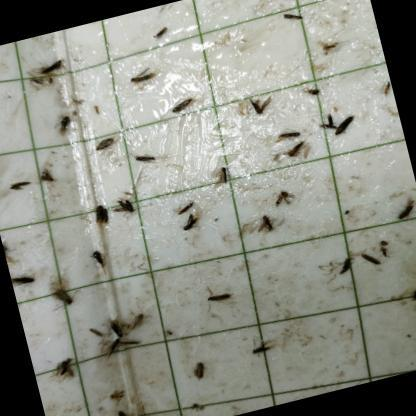prays_oleae: (200, 278, 235, 318), (388, 189, 416, 236), (108, 186, 141, 225), (8, 260, 44, 295), (126, 60, 160, 94), (87, 242, 115, 282), (165, 91, 197, 125), (130, 141, 161, 176), (244, 332, 280, 362), (247, 90, 276, 127), (91, 129, 121, 162), (49, 280, 78, 314), (280, 1, 307, 37), (36, 53, 68, 83), (268, 182, 298, 212), (7, 170, 34, 202), (331, 113, 360, 142), (53, 353, 80, 384), (356, 245, 382, 276), (124, 299, 148, 332), (178, 213, 204, 241), (284, 138, 312, 164), (253, 212, 279, 240), (104, 310, 126, 342), (53, 112, 78, 140), (188, 360, 212, 388), (151, 22, 175, 50), (101, 339, 128, 363), (335, 250, 358, 278), (318, 108, 339, 138), (277, 124, 305, 146), (85, 319, 107, 344), (38, 160, 58, 186), (173, 197, 196, 217), (405, 275, 416, 309), (112, 405, 136, 416), (378, 239, 392, 257), (304, 83, 322, 97), (381, 81, 394, 98), (140, 410, 166, 416)
